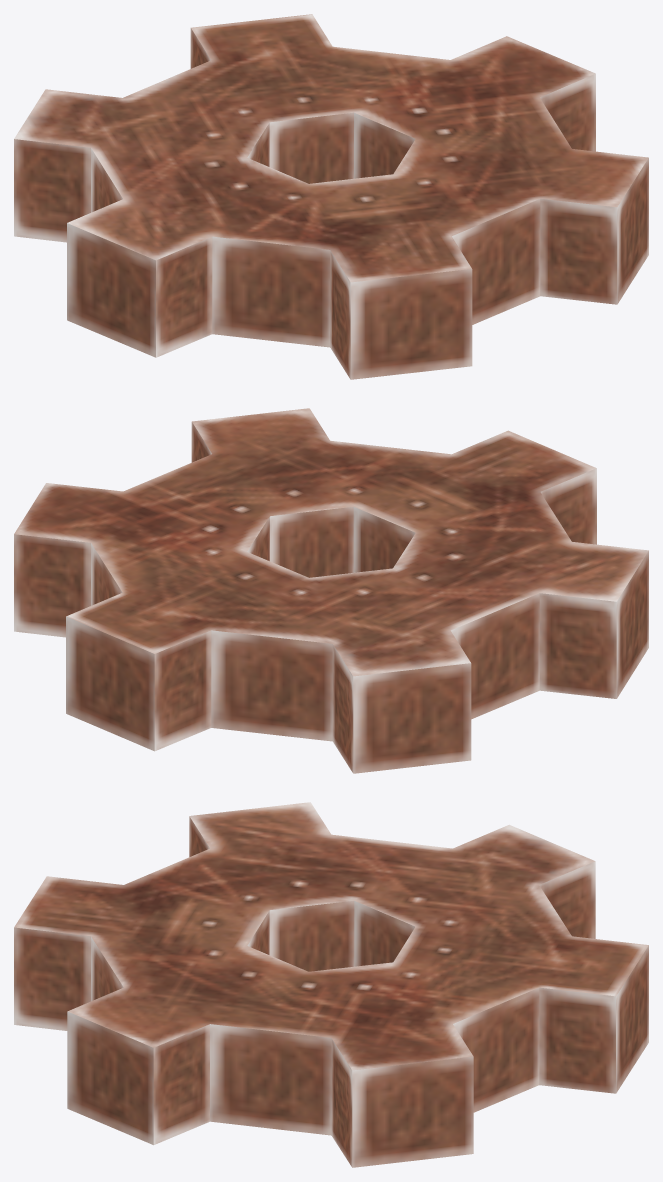
The picture shows the model from 3 angles, top to bottom: view 1: azimuth 30°, elevation 25°; view 2: azimuth 150°, elevation 25°; view 3: azimuth 270°, elevation 25°; orthographic projection.
Visible parts, largest first — view 1: gear2; view 2: gear2; view 3: gear2.
Part boxes in pixels (box(x1,y1,x2,y2)): gear2: box(14, 14, 648, 379); gear2: box(14, 408, 648, 773); gear2: box(14, 802, 648, 1167).
Size of the model in its own units: 154 by 26.1 by 154.
Materials: 1 (1 with a texture image).
